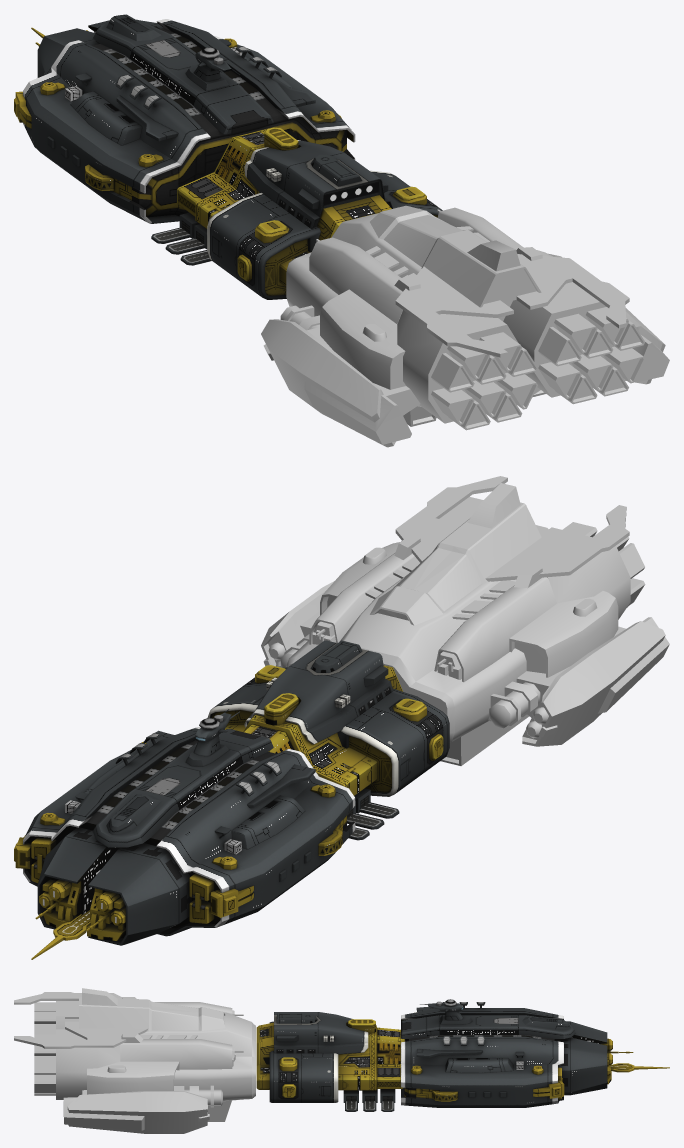
File: zhanliejian22.FBX
The picture shows the model from 3 angles, top to bottom: view 1: azimuth 30°, elevation 25°; view 2: azimuth 150°, elevation 25°; view 3: azimuth 270°, elevation 25°; orthographic projection. The views are drawn at different scales.
Visible parts, largest first — view 1: zhanlie_weitui01, zhanlie_tou01, zhanlie_zhong01; view 2: zhanlie_weitui01, zhanlie_tou01, zhanlie_zhong01; view 3: zhanlie_weitui01, zhanlie_tou01, zhanlie_zhong01.
Boxes of the visible parts, left/top/right/bottom form: zhanlie_weitui01: left=261, top=205, right=669, bottom=447; zhanlie_tou01: left=14, top=14, right=355, bottom=223; zhanlie_zhong01: left=151, top=127, right=442, bottom=299; zhanlie_weitui01: left=261, top=476, right=669, bottom=765; zhanlie_tou01: left=14, top=709, right=355, bottom=959; zhanlie_zhong01: left=207, top=640, right=449, bottom=840; zhanlie_weitui01: left=14, top=988, right=255, bottom=1133; zhanlie_tou01: left=401, top=999, right=669, bottom=1107; zhanlie_zhong01: left=256, top=1012, right=404, bottom=1111.
Size of the model in its own units: 269 by 148 by 793.
